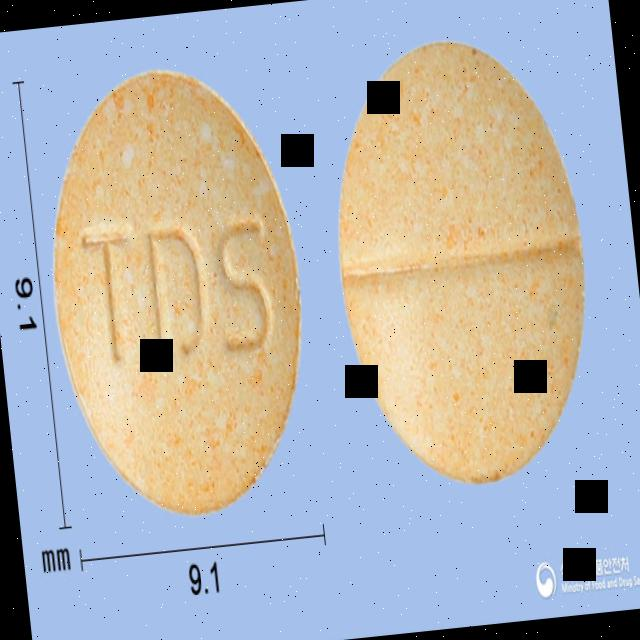Doxiendi: (33, 56, 323, 524)
